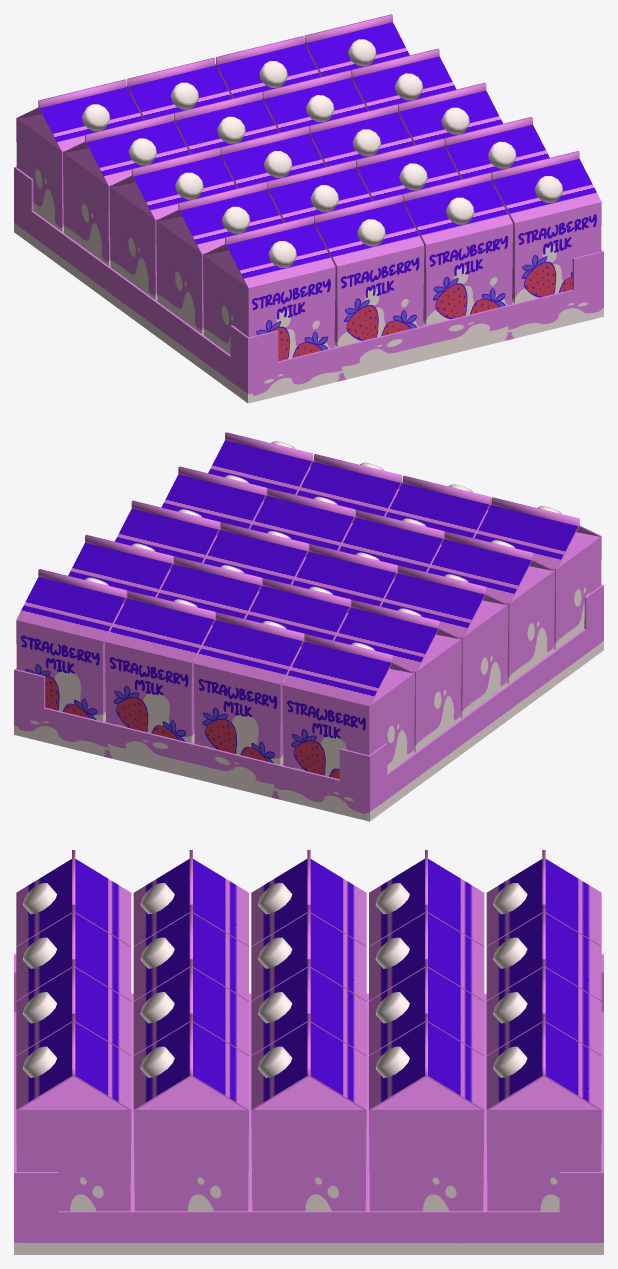
Rendered from Milk_Small_Strawberry_x20.fbx.
The picture shows the model from 3 angles, top to bottom: view 1: azimuth 30°, elevation 25°; view 2: azimuth 150°, elevation 25°; view 3: azimuth 270°, elevation 25°; orthographic projection. The views are drawn at different scales.
Visible parts, largest first — view 1: juice_big2; view 2: juice_big2; view 3: juice_big2.
Boxes of the visible parts, x1,y1,x2,y2 form: juice_big2: (14, 14, 603, 403); juice_big2: (14, 432, 603, 821); juice_big2: (14, 850, 603, 1254).
Bounding box in the file's own units: 42.38 × 16.88 × 48.3.
Materials: 1 (1 with a texture image).
